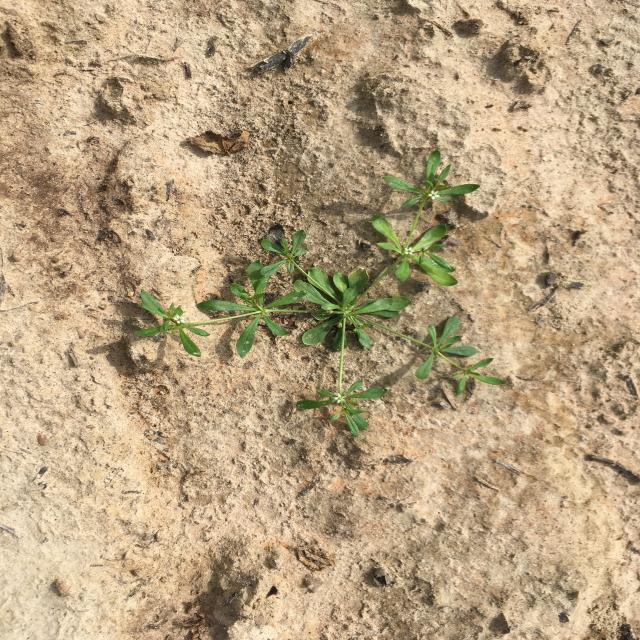Carpetweed: (134, 150, 506, 438)
